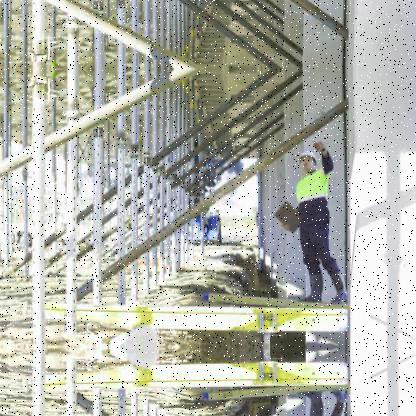Helmet: (295, 150, 320, 176)
